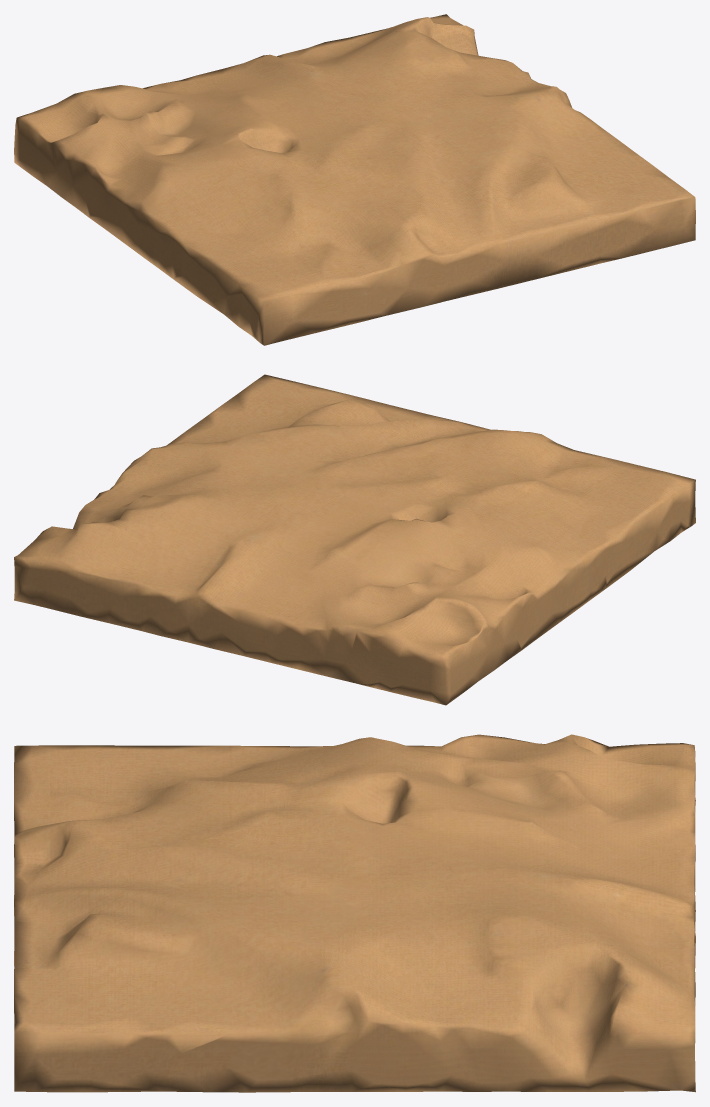
File: tripo_convert_773c7958-e514-4d90-9849-1cefec20c8e6.fbx
The picture shows the model from 3 angles, top to bottom: view 1: azimuth 30°, elevation 25°; view 2: azimuth 150°, elevation 25°; view 3: azimuth 270°, elevation 25°; orthographic projection. The views are drawn at different scales.
Parts seen in each view (by area): view 1: tripo_node_773c7958; view 2: tripo_node_773c7958; view 3: tripo_node_773c7958.
Boxes of the visible parts, x1=… form: tripo_node_773c7958: x1=14, y1=14, x2=695, y2=345; tripo_node_773c7958: x1=14, y1=374, x2=695, y2=705; tripo_node_773c7958: x1=14, y1=734, x2=695, y2=1092.
Bounding box in the file's own units: 0.9987 × 0.1789 × 0.9989.
